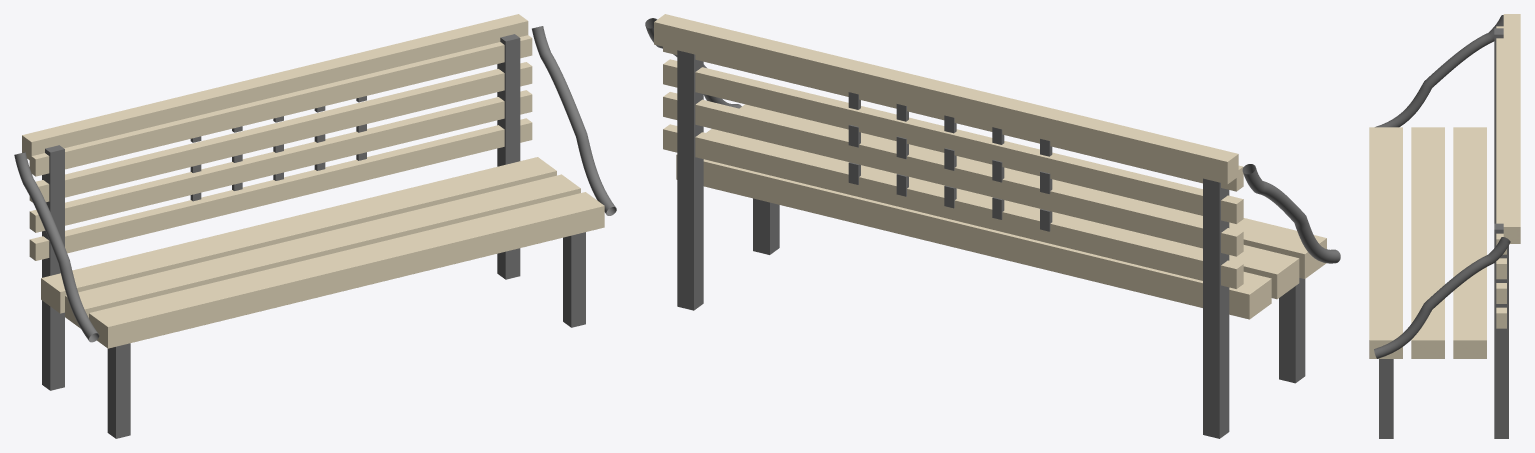
The picture shows the model from 3 angles, left to right: view 1: azimuth 30°, elevation 25°; view 2: azimuth 150°, elevation 25°; view 3: azimuth 270°, elevation 25°; orthographic projection. The views are drawn at different scales.
Parts seen in each view (by area): view 1: Cube, Cube.002, Cube.003, Cube.001, Cube.004, Cube.006, Cube.005, Cube.007, Cube.010, Cube.011, BézierCurve, BézierCurve.001 (+2 smaller); view 2: Cube.003, Cube.002, Cube.006, Cube.005, Cube.004, Cube.011, Cube.010, Cube, Cube.001, Cube.007, Cube.008, BézierCurve (+1 smaller); view 3: Cube, Cube.002, Cube.001, Cube.003, Cube.011, BézierCurve.001, BézierCurve, Cube.007, Cube.009, Cube.010, Cube.004, Cube.006 (+1 smaller).
Boxes of the visible parts, box(x1,y1,x2,y2) form: Cube: box(89, 192, 604, 348); Cube.002: box(41, 157, 556, 313); Cube.003: box(22, 14, 528, 161); Cube.001: box(65, 174, 580, 328); Cube.004: box(29, 118, 532, 260); Cube.006: box(29, 62, 532, 202); Cube.005: box(29, 90, 532, 232); Cube.007: box(29, 35, 532, 176); Cube.010: box(42, 145, 64, 390); Cube.011: box(497, 34, 520, 279); BézierCurve: box(14, 152, 99, 342); BézierCurve.001: box(532, 26, 616, 215); Cube.003: box(654, 14, 1238, 184); Cube.002: box(676, 154, 1271, 319); Cube.006: box(663, 59, 1243, 223); Cube.005: box(663, 92, 1243, 256); Cube.004: box(663, 124, 1243, 288); Cube.011: box(677, 50, 703, 310); Cube.010: box(1203, 178, 1229, 438); Cube: box(739, 104, 1326, 278); Cube.001: box(706, 129, 1299, 299); Cube.007: box(663, 47, 1243, 191); Cube.008: box(1279, 278, 1305, 383); BézierCurve: box(1242, 164, 1340, 263); Cube: box(1369, 127, 1402, 358); Cube.002: box(1453, 127, 1486, 358); Cube.001: box(1411, 127, 1444, 358); Cube.003: box(1503, 14, 1520, 243); Cube.011: box(1494, 223, 1508, 438); BézierCurve.001: box(1374, 237, 1510, 358); BézierCurve: box(1375, 15, 1503, 127); Cube.007: box(1496, 26, 1506, 254); Cube.009: box(1379, 359, 1393, 438); Cube.010: box(1494, 28, 1503, 223); Cube.004: box(1496, 307, 1506, 328); Cube.006: box(1496, 258, 1506, 279).
Size of the model in its own units: 2.55 by 1.15 by 0.72.
